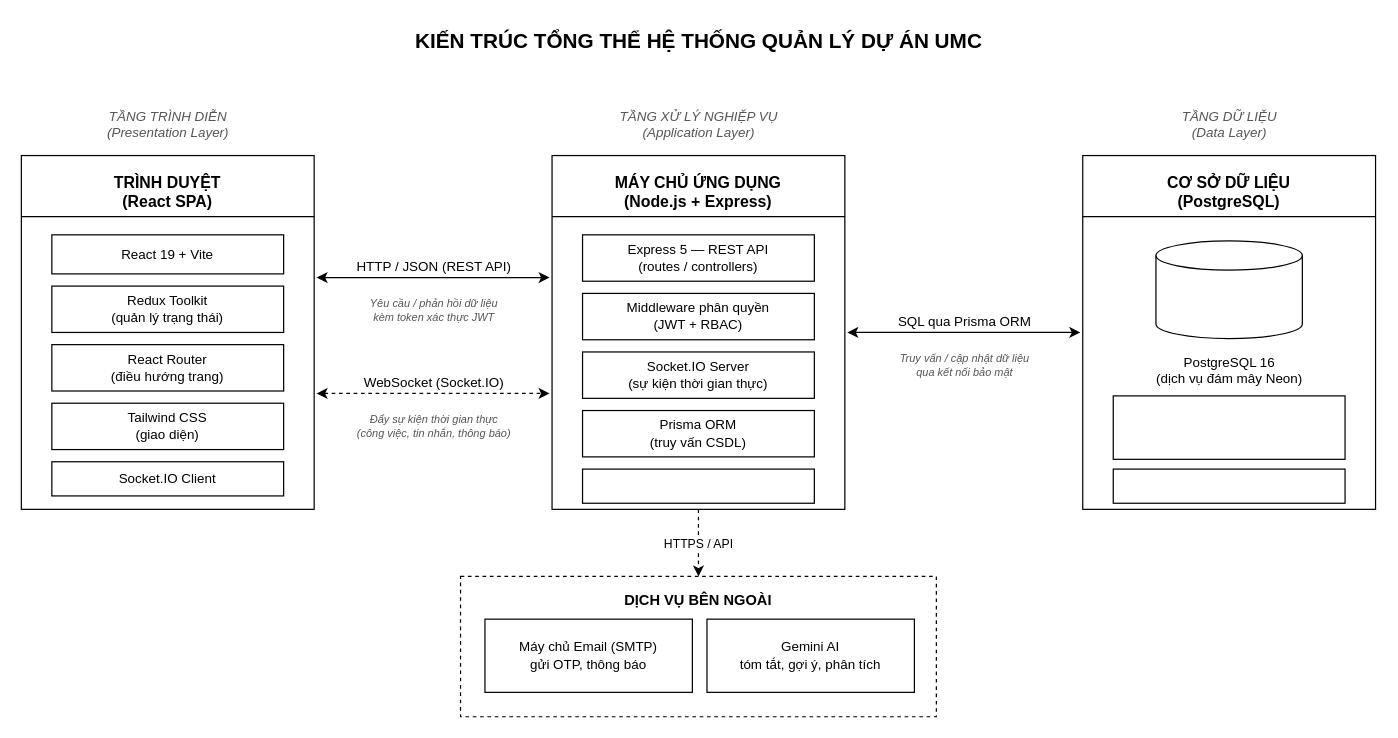
The diagram is 1398 pixels wide and 738 high, and some of its shapes have lost their labels. Here are the shapes that lost their labels. From the top down, the centre of each, then its label:
At point (1228, 427): "21 bảng dữ liệu (User, Workspace, Project, Task, File, Equipment…)".
At point (697, 485): "Multer / Cloudinary (tệp)".
At point (1228, 485): "Ràng buộc khóa chính / khóa ngoại".
